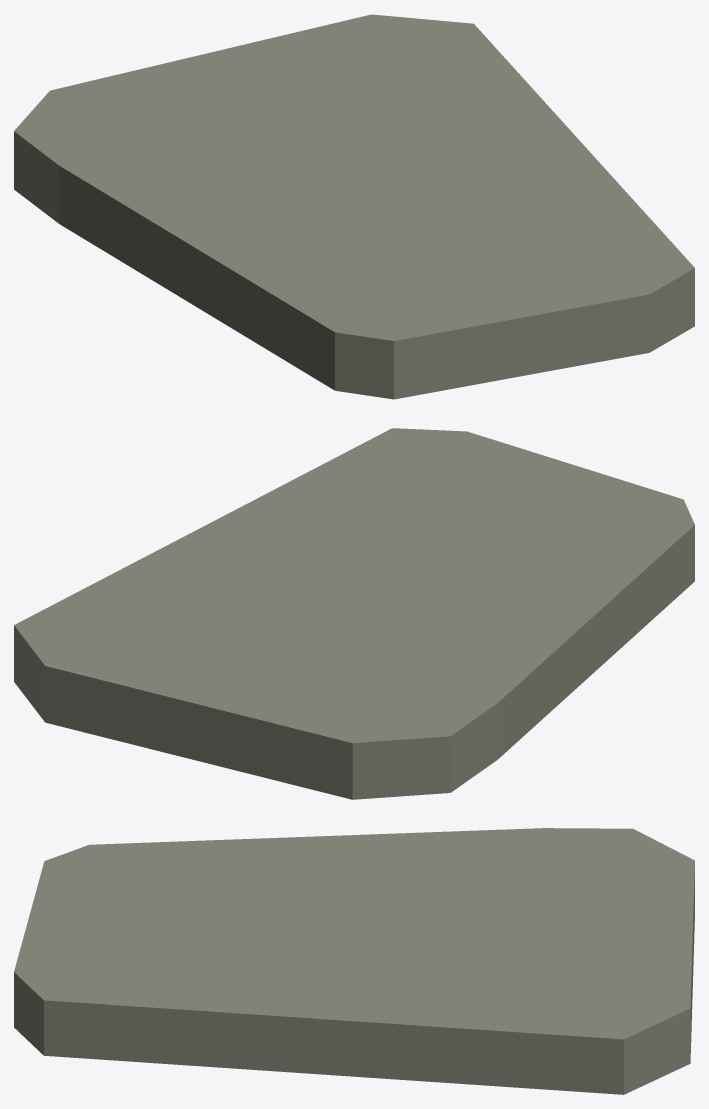
Rendered from Tile4.fbx.
The picture shows the model from 3 angles, top to bottom: view 1: azimuth 30°, elevation 25°; view 2: azimuth 150°, elevation 25°; view 3: azimuth 270°, elevation 25°; orthographic projection. The views are drawn at different scales.
Parts seen in each view (by area): view 1: Tile4; view 2: Tile4; view 3: Tile4.
Boxes of the visible parts, left/top/right/bottom form: Tile4: left=14, top=14, right=694, bottom=399; Tile4: left=14, top=428, right=694, bottom=799; Tile4: left=14, top=828, right=694, bottom=1094.
Bounding box in the file's own units: 0.3078 × 0.0376 × 0.4191.
